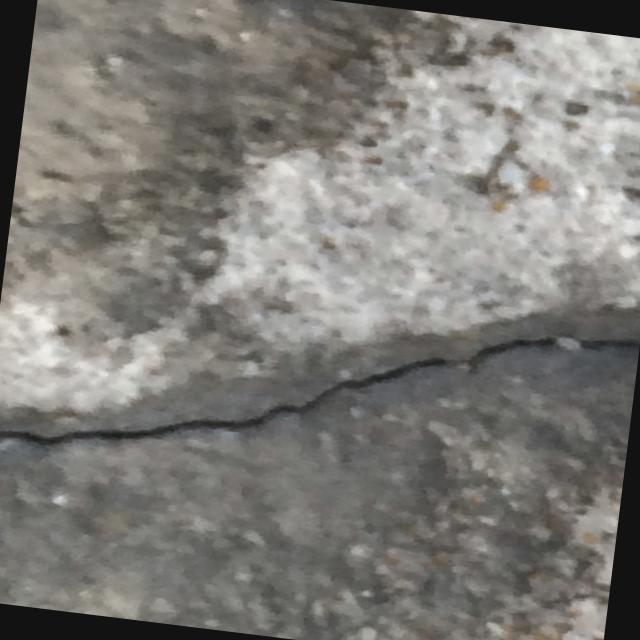crack: (0, 256, 635, 527)
